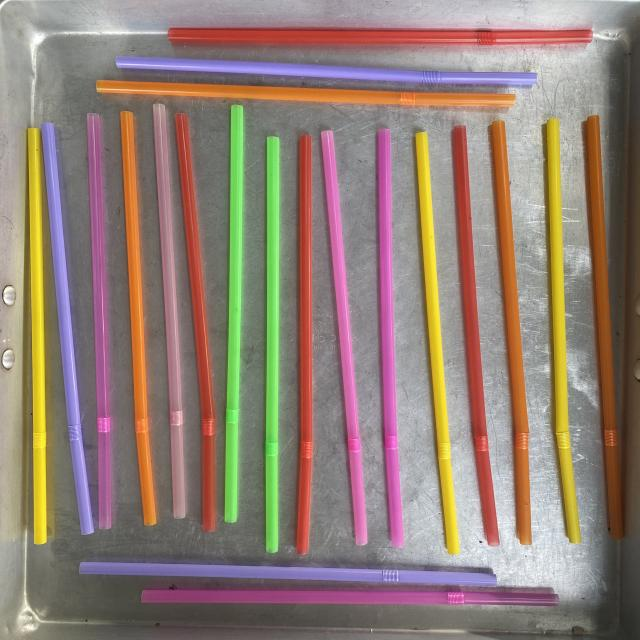Single-Use-Plastic: (41, 122, 94, 535), (452, 125, 500, 546), (321, 131, 368, 545), (415, 132, 460, 555), (491, 120, 531, 545), (175, 114, 215, 532), (586, 115, 624, 539), (120, 111, 156, 525), (546, 119, 581, 544), (152, 104, 186, 519), (116, 56, 538, 85), (96, 80, 515, 108), (378, 129, 404, 548), (79, 561, 498, 586), (86, 112, 111, 529), (224, 105, 244, 522), (28, 128, 48, 544), (168, 28, 592, 45), (141, 589, 559, 606), (296, 135, 312, 554), (265, 138, 280, 552)
